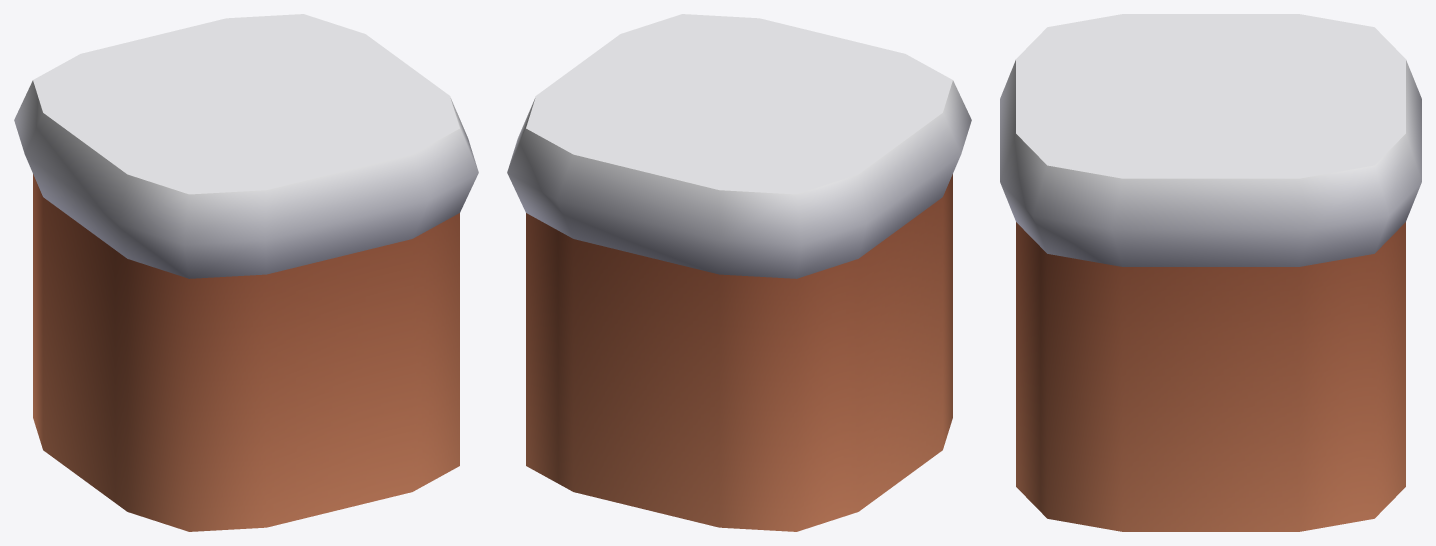
File: block-snow.glb
3 views of the same model, side by side, from view 1: azimuth 30°, elevation 25°; view 2: azimuth 150°, elevation 25°; view 3: azimuth 270°, elevation 25° (orthographic). The views are drawn at different scales.
Visible parts, largest first — view 1: block-snow; view 2: block-snow; view 3: block-snow.
Boxes of the visible parts, x1,y1,x2,y2 form: block-snow: (14,14,478,531); block-snow: (507,14,971,531); block-snow: (1000,14,1421,531).
Bounding box in the file's own units: 1.08 × 1 × 1.08.
Materials: 1 (1 with a texture image).
